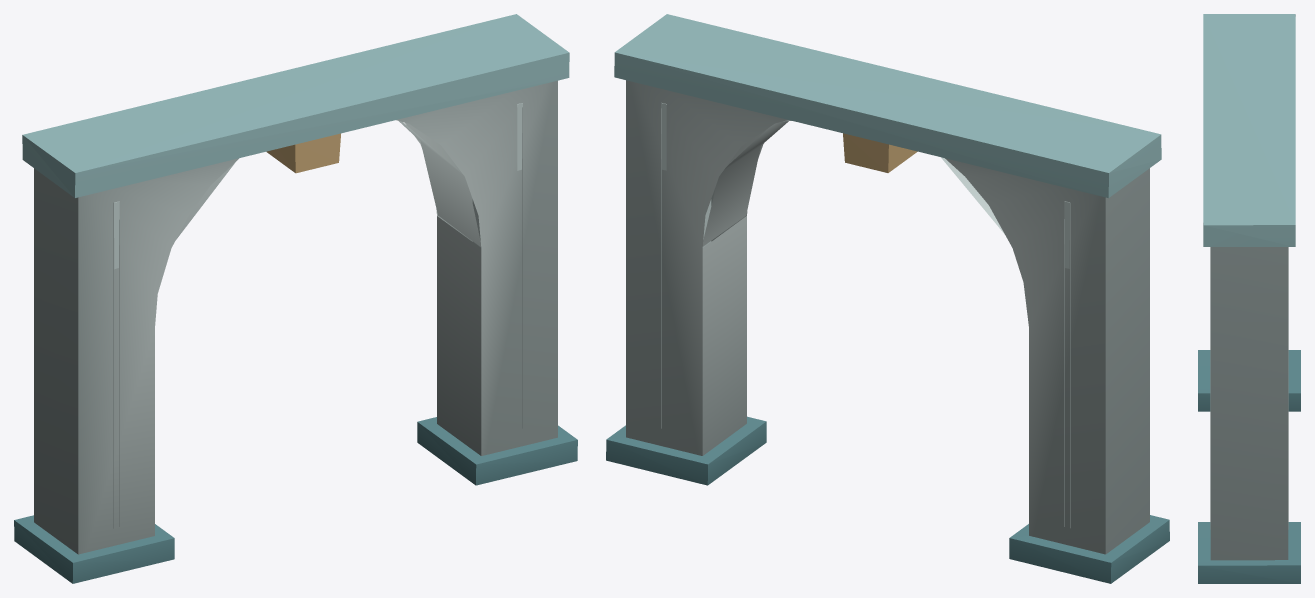
Rendered from arch.lod.glb.
3 views of the same model, side by side, from view 1: azimuth 30°, elevation 25°; view 2: azimuth 150°, elevation 25°; view 3: azimuth 270°, elevation 25° (orthographic). The views are drawn at different scales.
Visible parts, largest first — view 1: arch; view 2: arch; view 3: arch.
Part boxes in pixels (x1,y1,x2,y2): arch: (14,14,577,583); arch: (606,14,1169,583); arch: (1198,14,1300,583).
Size of the model in its own units: 10.52 by 8.15 by 2.12.
